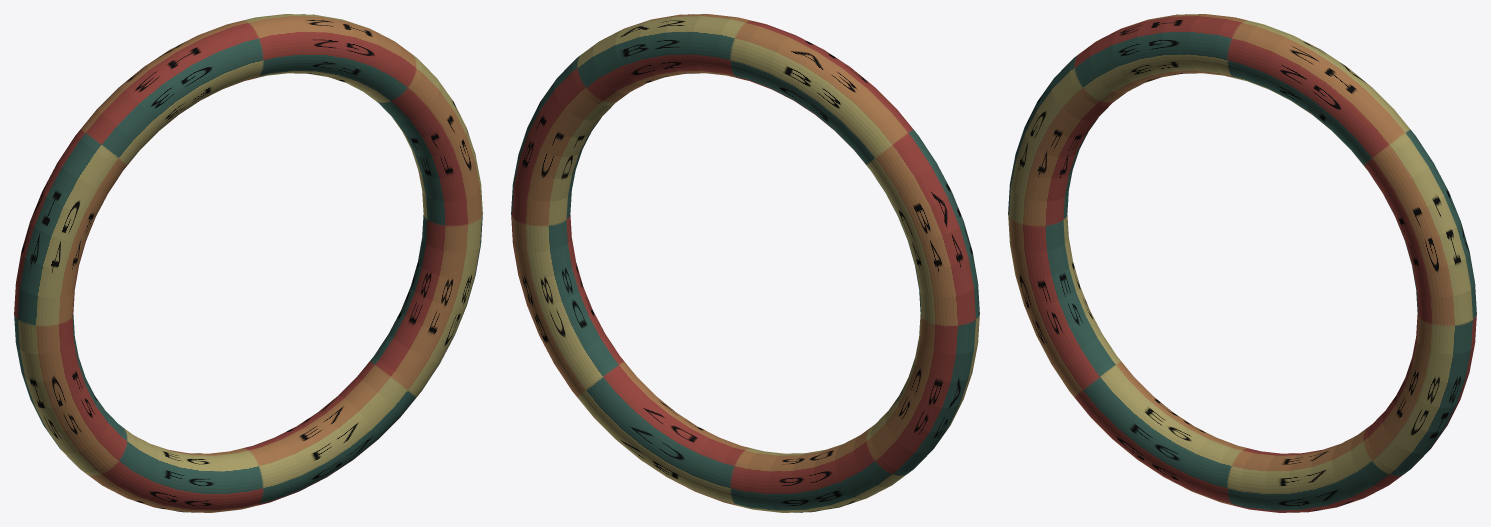
File: texture_torus_R28_r6.glb
3 renders of one model, left to right at view 1: azimuth 30°, elevation 25°; view 2: azimuth 150°, elevation 25°; view 3: azimuth 330°, elevation 25°, orthographic.
Parts seen in each view (by area): view 1: world; view 2: world; view 3: world.
Boxes of the visible parts, x1=… form: world: x1=14, y1=14, x2=482, y2=512; world: x1=511, y1=14, x2=979, y2=512; world: x1=1008, y1=14, x2=1476, y2=512.
Bounding box in the file's own units: 32.27 × 32.2 × 3.59.
Materials: 1 (1 with a texture image).
